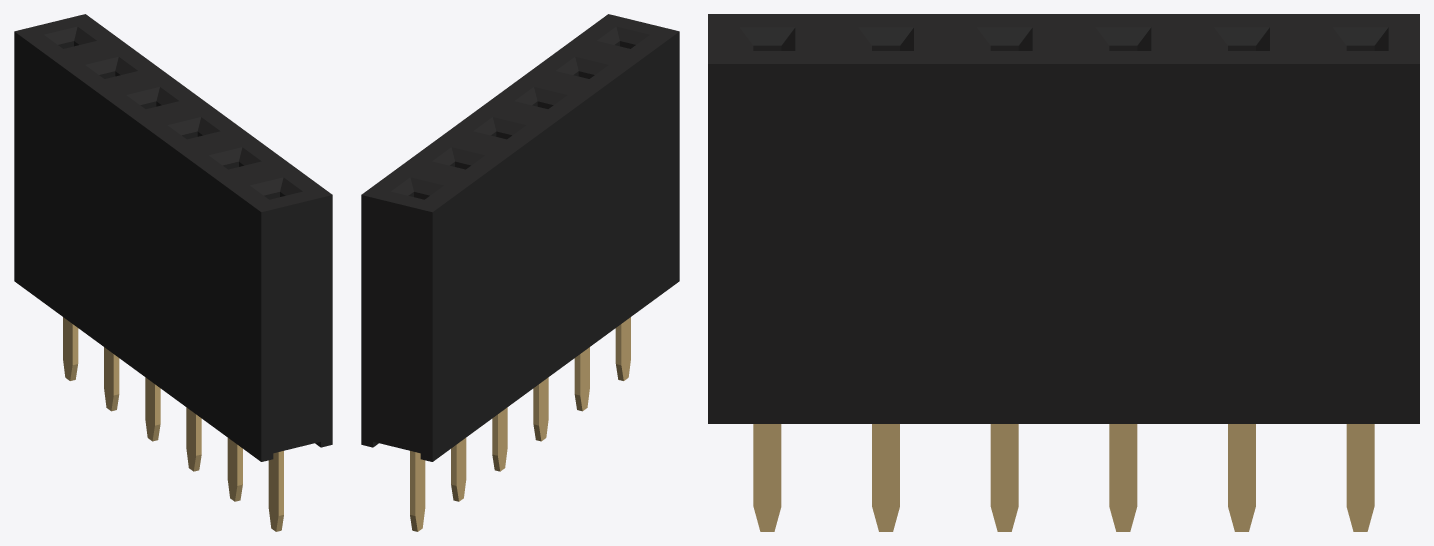
File: kc-pinsocket_1x06_p2.54mm_vertical.glb
The picture shows the model from 3 angles, left to right: view 1: azimuth 30°, elevation 25°; view 2: azimuth 150°, elevation 25°; view 3: azimuth 270°, elevation 25°; orthographic projection. The views are drawn at different scales.
Visible parts, largest first — view 1: 0_0_0_0, 0.75_0.5_0.25_0.9; view 2: 0_0_0_0, 0.75_0.5_0.25_0.9; view 3: 0_0_0_0, 0.75_0.5_0.25_0.9.
Boxes of the visible parts, x1=… form: 0_0_0_0: x1=14, y1=14, x2=332, y2=461; 0.75_0.5_0.25_0.9: x1=63, y1=317, x2=283, y2=531; 0_0_0_0: x1=361, y1=14, x2=679, y2=461; 0.75_0.5_0.25_0.9: x1=410, y1=317, x2=630, y2=531; 0_0_0_0: x1=708, y1=14, x2=1419, y2=423; 0.75_0.5_0.25_0.9: x1=753, y1=424, x2=1374, y2=531.
Bounding box in the file's own units: 0.2539 × 1.16 × 1.52.
